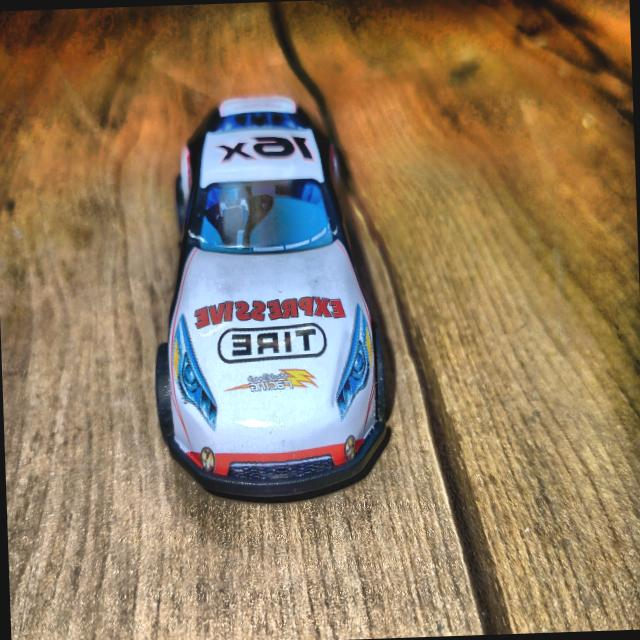Car: (146, 93, 388, 500)
